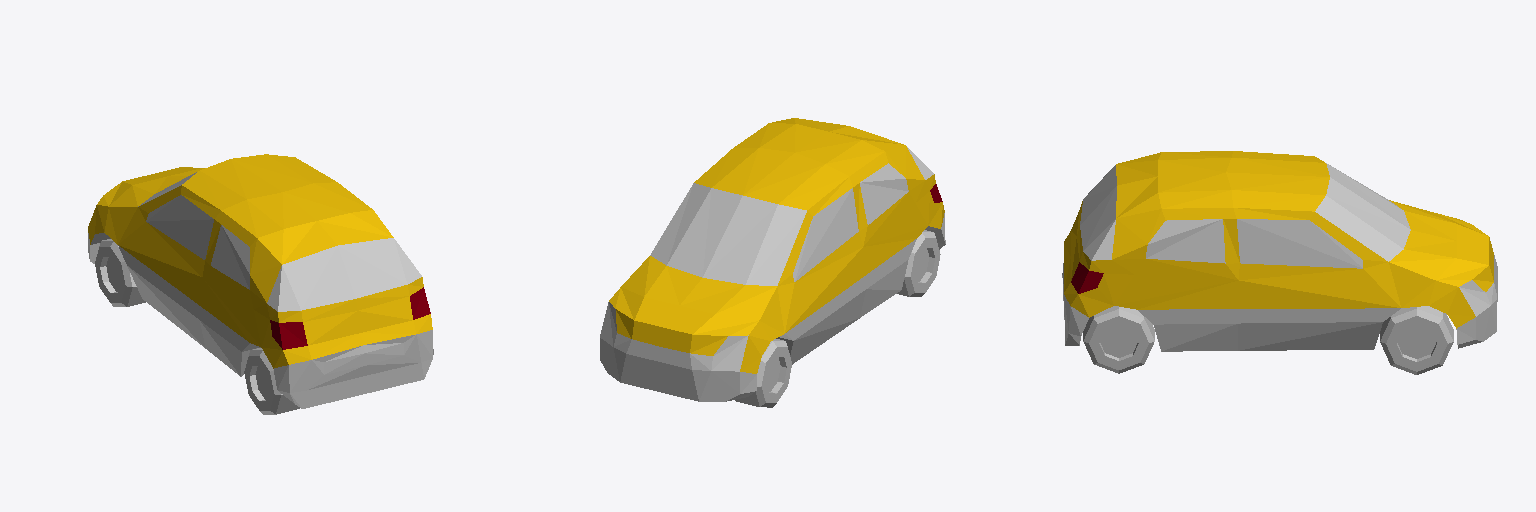
3 views of the same model, side by side, from view 1: azimuth 30°, elevation 25°; view 2: azimuth 150°, elevation 25°; view 3: azimuth 270°, elevation 25° (orthographic).
Visible parts, largest first — view 1: Car_Carrosserie, Car_Base; view 2: Car_Carrosserie, Car_Base; view 3: Car_Carrosserie, Car_Base.
Part boxes in pixels (bbox=[...]): Car_Carrosserie: bbox=[88, 154, 432, 368]; Car_Base: bbox=[88, 172, 433, 414]; Car_Carrosserie: bbox=[609, 118, 944, 373]; Car_Base: bbox=[600, 147, 945, 407]; Car_Carrosserie: bbox=[1064, 151, 1493, 328]; Car_Base: bbox=[1062, 163, 1497, 374].
Bounding box in the file's own units: 1.94 × 1.98 × 4.67.
3 materials, 2 textured.